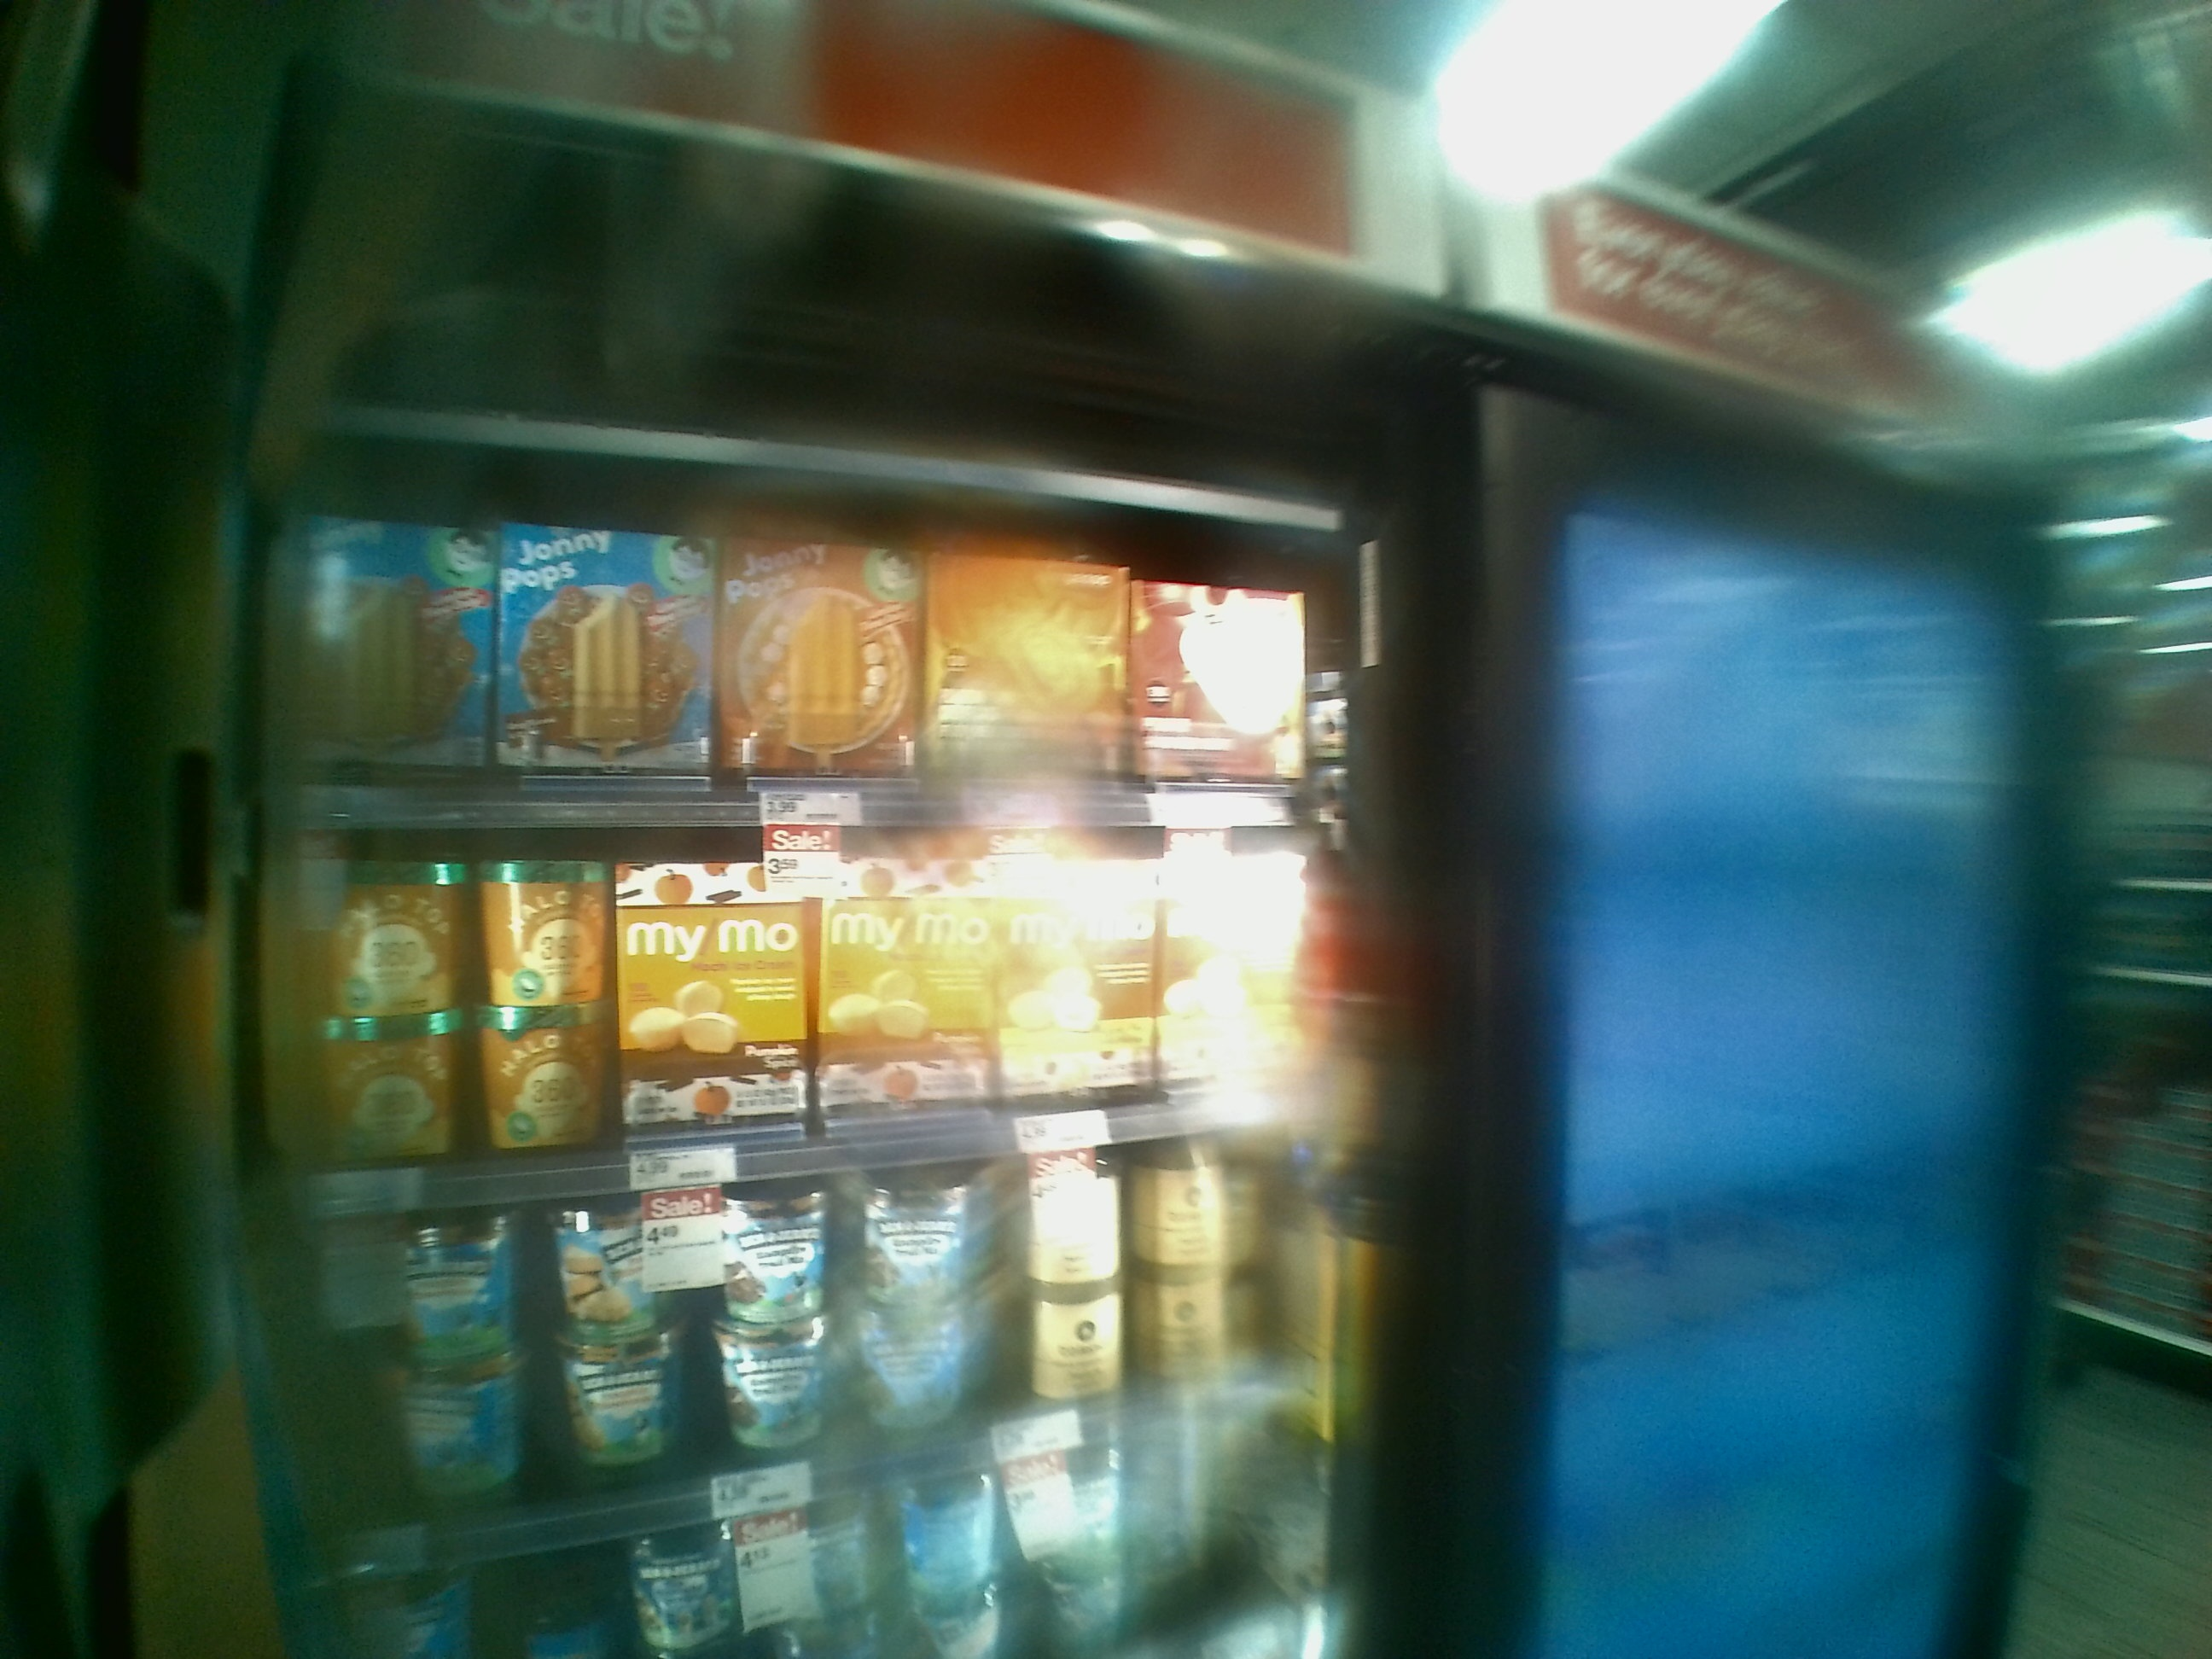shelf: (247, 443, 1378, 838), (242, 803, 1352, 1175), (260, 1182, 1379, 1544)
